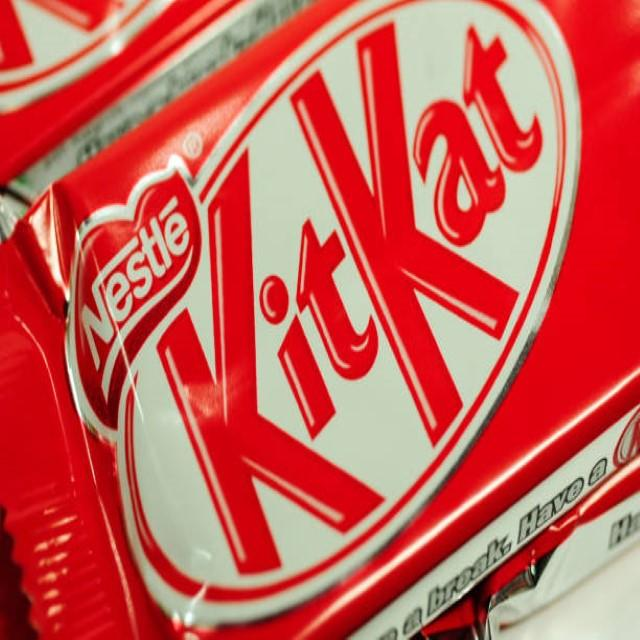kitkat_chocolate: (20, 0, 640, 640)
